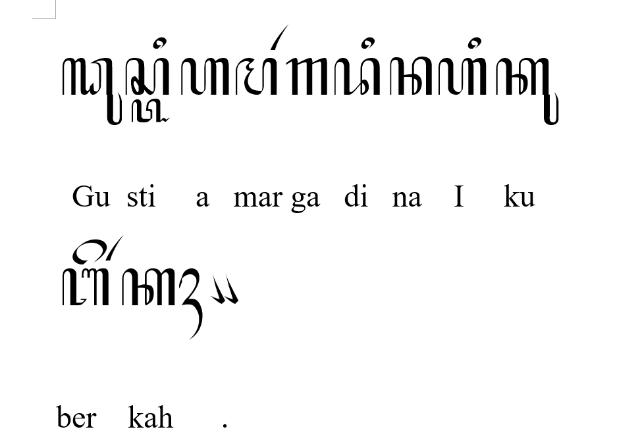Gu: (61, 56, 122, 126)
_h1: (179, 267, 203, 339)
_r1: (104, 233, 124, 260), (270, 23, 288, 50)
_t: (131, 98, 171, 124)
b: (61, 268, 109, 306)
d: (333, 58, 381, 96)
e: (71, 239, 107, 265)
g: (286, 57, 328, 95)
h: (438, 57, 487, 96), (180, 58, 230, 96)
i: (360, 36, 376, 50), (152, 36, 166, 50), (468, 36, 482, 50)
k: (122, 268, 176, 306)
kom: (210, 274, 224, 304), (224, 274, 238, 304)
ku: (495, 56, 559, 126)
m: (235, 57, 277, 95)
n: (389, 56, 433, 96)
s: (124, 58, 170, 96)
